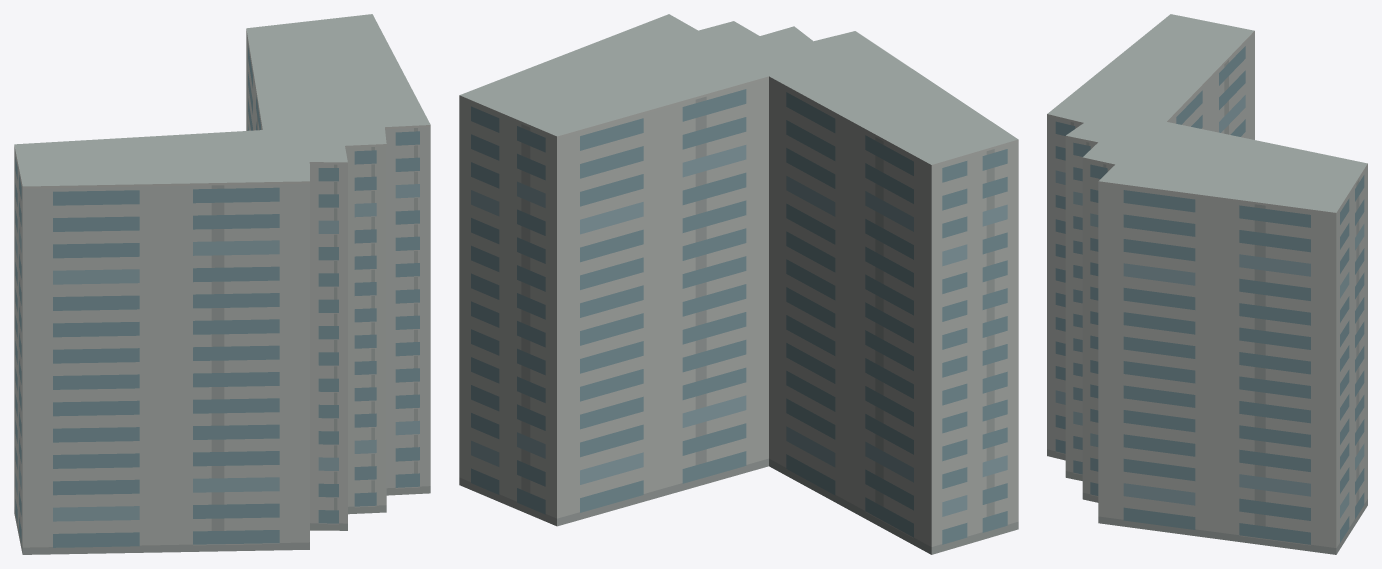
File: residential-8e8937ac-416b-4967-a8ab-3c9e87afccd0.glb
The picture shows the model from 3 angles, left to right: view 1: azimuth 30°, elevation 25°; view 2: azimuth 150°, elevation 25°; view 3: azimuth 270°, elevation 25°; orthographic projection. The views are drawn at different scales.
Parts seen in each view (by area): view 1: residential-8e8937ac-416b-4967-a8ab-3c9e87afccd0.tmp; view 2: residential-8e8937ac-416b-4967-a8ab-3c9e87afccd0.tmp; view 3: residential-8e8937ac-416b-4967-a8ab-3c9e87afccd0.tmp.
Boxes of the visible parts, x1,y1,x2,y2 form: residential-8e8937ac-416b-4967-a8ab-3c9e87afccd0.tmp: [14, 14, 430, 554]; residential-8e8937ac-416b-4967-a8ab-3c9e87afccd0.tmp: [459, 14, 1018, 554]; residential-8e8937ac-416b-4967-a8ab-3c9e87afccd0.tmp: [1047, 14, 1367, 554].
Bounding box in the file's own units: 48.65 × 39 × 33.15.
